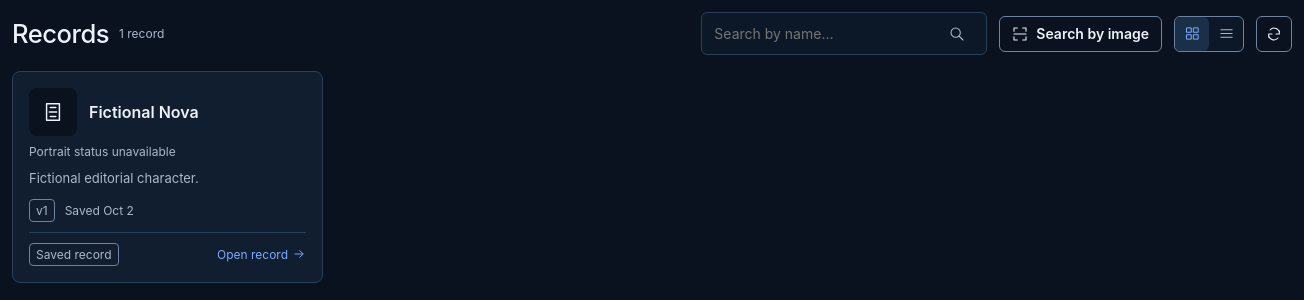
Scenario: saved record read surfaces › clears data when refresh loses permission and offers no retry loop
Expected: the button with aria-label "Open record" is shown, [12,71,323,283]
Click the button named "Refresh records". click: (1274, 34)
box: [1256,16,1292,52]
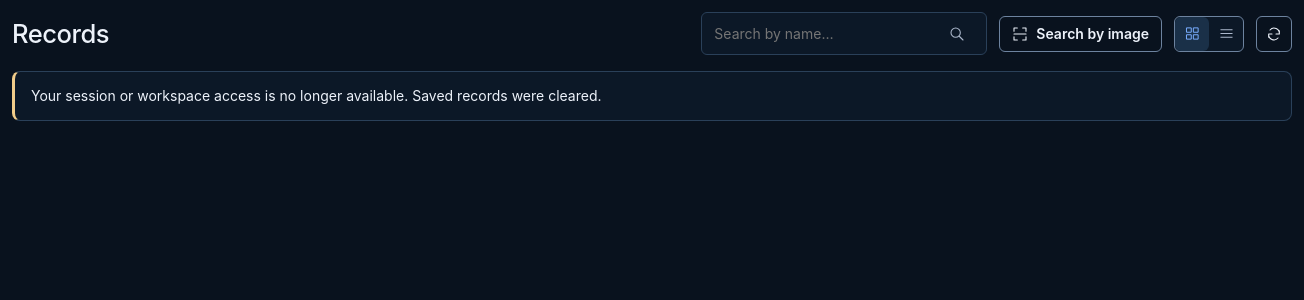
Expected: the message shows "access", [31,87,602,104]
Expected: the button "Open record" is gone
